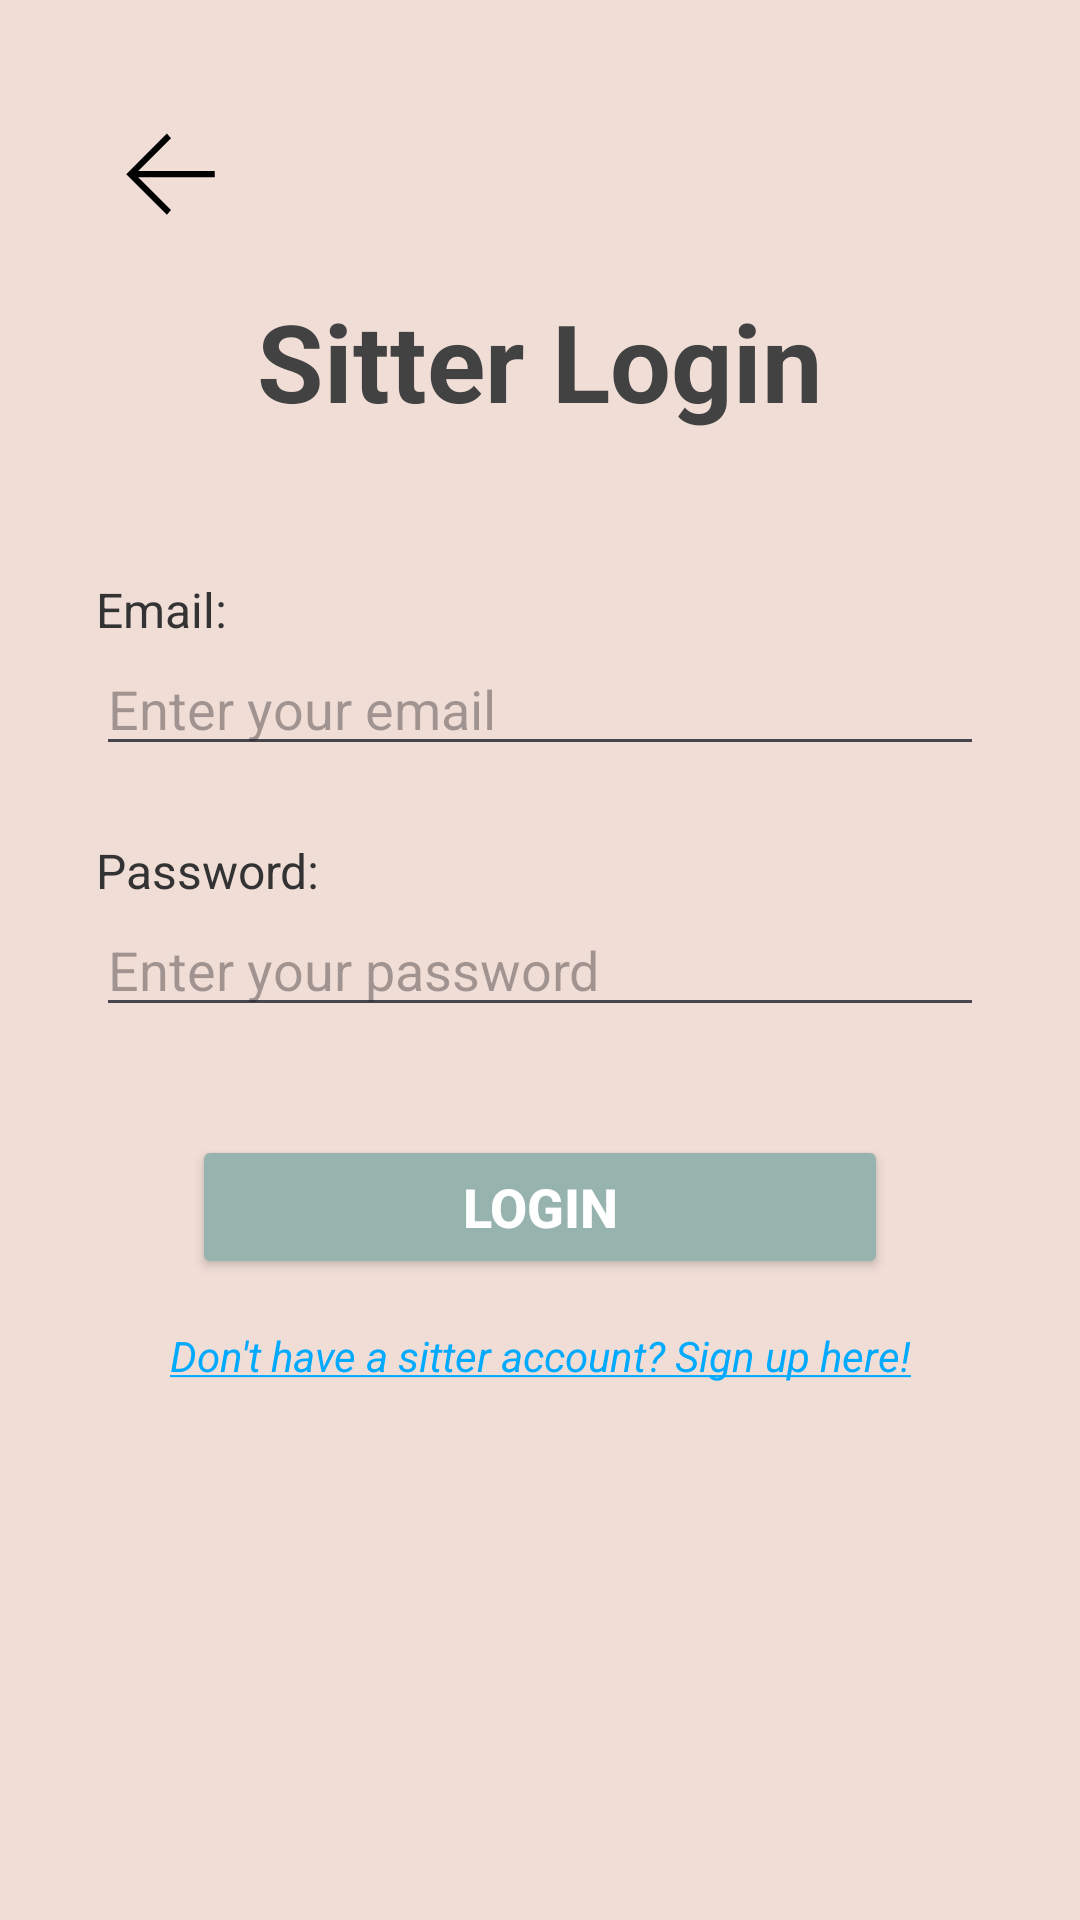

Where icons sit on this 1080*1920 app screen, as (x1, y1, x2, y2):
Back button: (126, 133, 215, 215)
